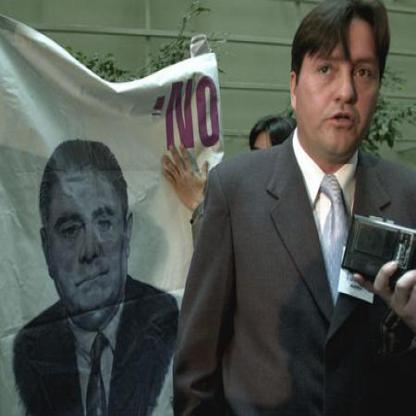face: (45, 145, 130, 314), (297, 1, 384, 163)
